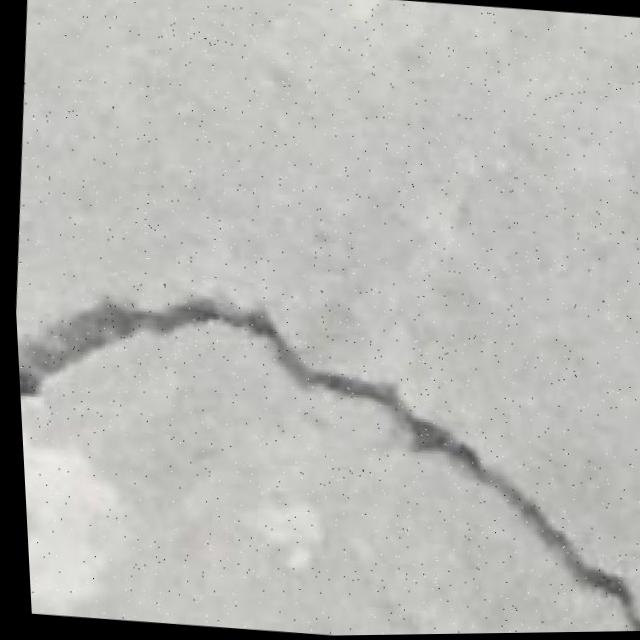Crack: (11, 271, 640, 640)
